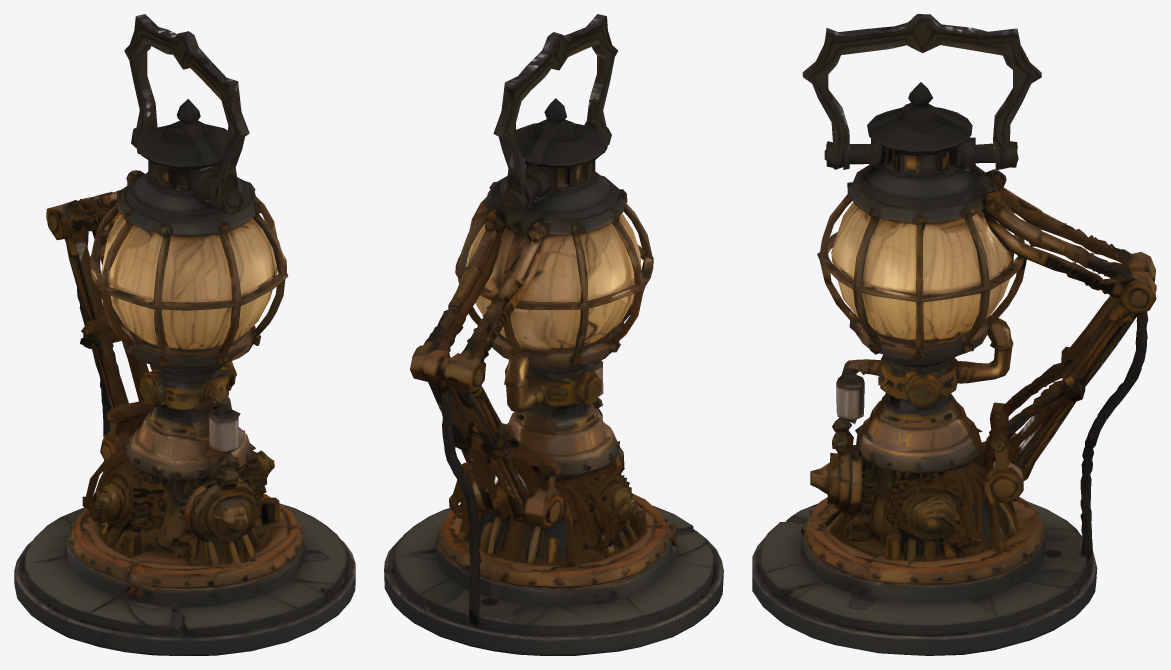
Rendered from Lamp.fbx.
3 renders of one model, left to right at view 1: azimuth 30°, elevation 25°; view 2: azimuth 150°, elevation 25°; view 3: azimuth 270°, elevation 25°, orthographic. The views are drawn at different scales.
Parts seen in each view (by area): view 1: model; view 2: model; view 3: model.
Part boxes in pixels (left/top/right/bottom): model: left=14, top=14, right=355, bottom=655; model: left=384, top=14, right=723, bottom=655; model: left=752, top=14, right=1156, bottom=655.
Size of the model in its own units: 105 by 188 by 121.
